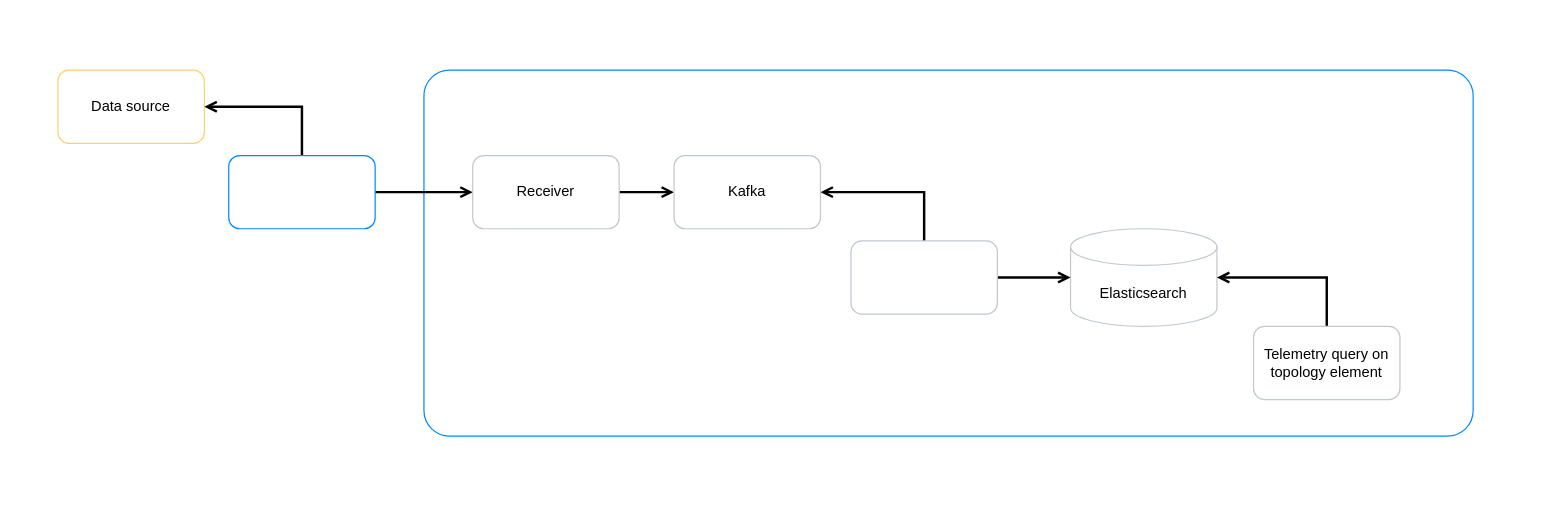
Some shapes in this 1554 by 505 pixel diagram are drawn without their labels. The shapes that lost their labels are listed below. From the top down, each one's box as (x1, y1, x2, y2) in pixels, then its label:
(228, 154, 375, 229): StackState Agent
(423, 69, 1473, 436): StackState
(850, 240, 997, 314): Kafka2ES
